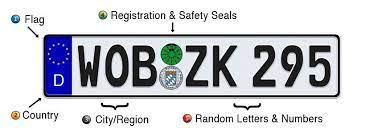2: (249, 43, 281, 90)
5: (304, 41, 333, 90)
9: (277, 42, 309, 91)
B: (131, 43, 158, 89)
O: (103, 43, 130, 89)
W: (76, 44, 102, 89)
X: (211, 43, 242, 90)
Z: (183, 44, 210, 88)
